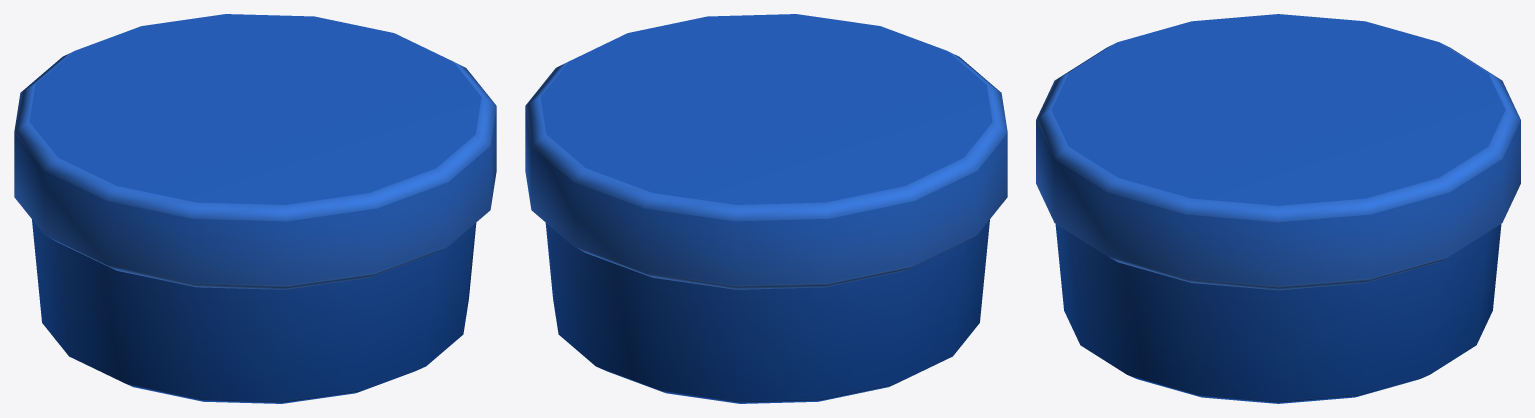
File: giftbox_046.fbx
The picture shows the model from 3 angles, left to right: view 1: azimuth 30°, elevation 25°; view 2: azimuth 150°, elevation 25°; view 3: azimuth 270°, elevation 25°; orthographic projection.
Visible parts, largest first — view 1: giftbox_046; view 2: giftbox_046; view 3: giftbox_046.
Boxes of the visible parts, bbox=[...] form: giftbox_046: bbox=[14, 14, 496, 403]; giftbox_046: bbox=[525, 14, 1007, 403]; giftbox_046: bbox=[1036, 14, 1520, 403].
Bounding box in the file's own units: 226 × 226 × 108.
